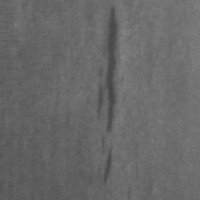inclusion: (93, 4, 123, 137), (96, 137, 118, 187)
